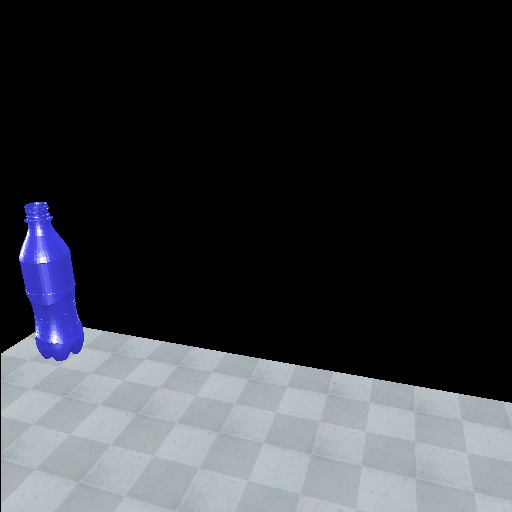bottle: (18, 200, 88, 363)
